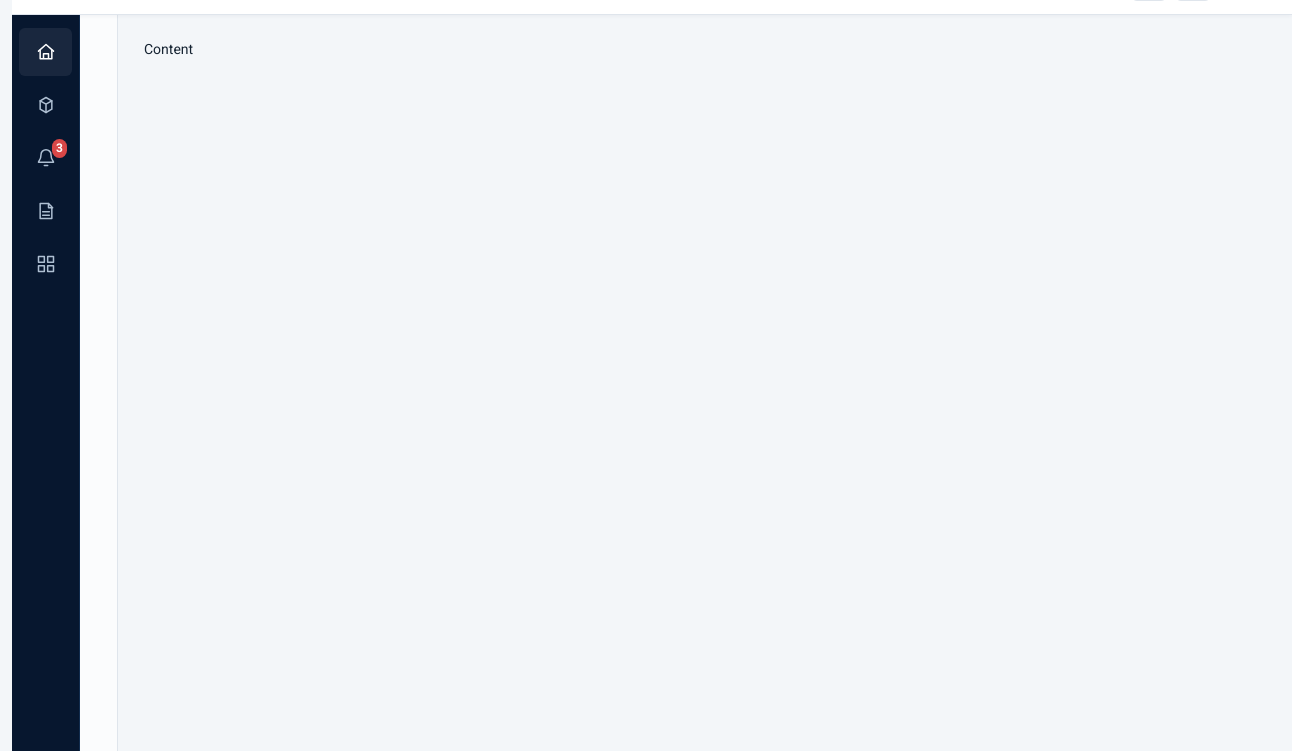
Test: platform navigation preserves the governed persona but drops unrelated query data
Click the link named "Dashboards".
click(46, 264)  # box [36,254,56,274]
(page scrolled)
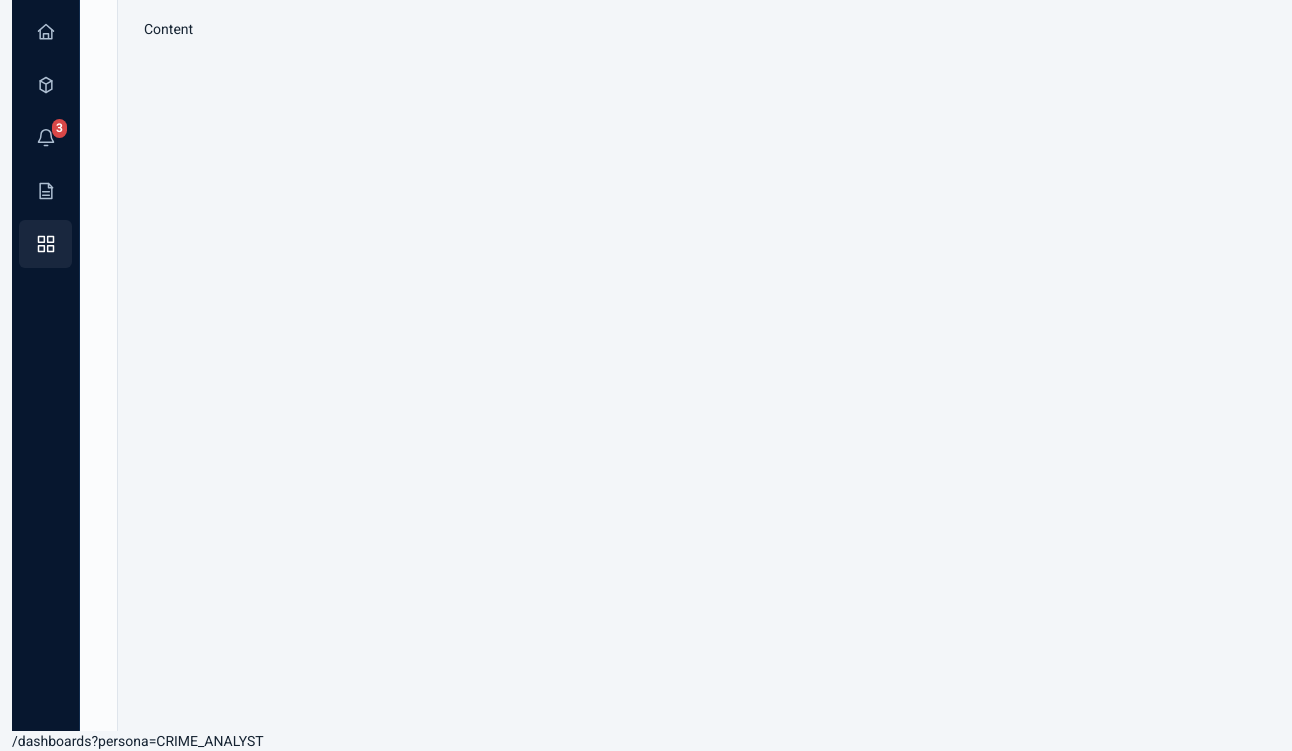
Result: the text with test id "location" reads "/dashboards?persona=CRIME_ANALYST" at [12,733,264,749]
Result: the text with test id "location" no longer shows "token" at [12,733,264,749]
